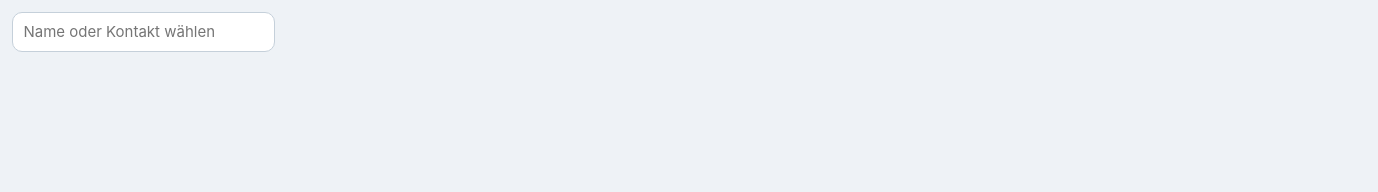
Test: Personenfeld mit Kontaktvorschlägen › übernimmt einen Vorschlag und bietet ihn nicht noch einmal an
Type "Hr. Gruber, ann" into the dropdown at point(144, 32), box x1=12 y1=12 x2=275 y2=52
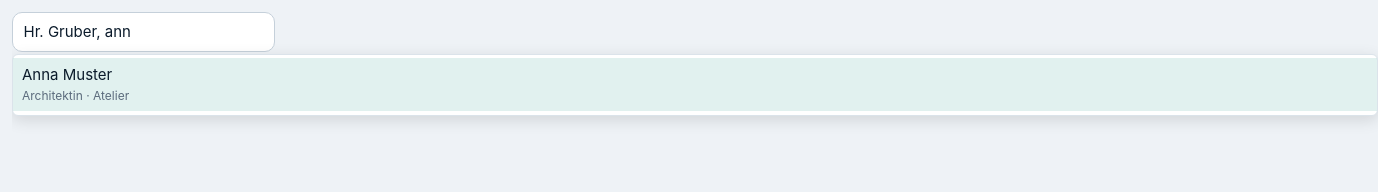
Press Enter in the dropdown, box x1=12 y1=12 x2=275 y2=52
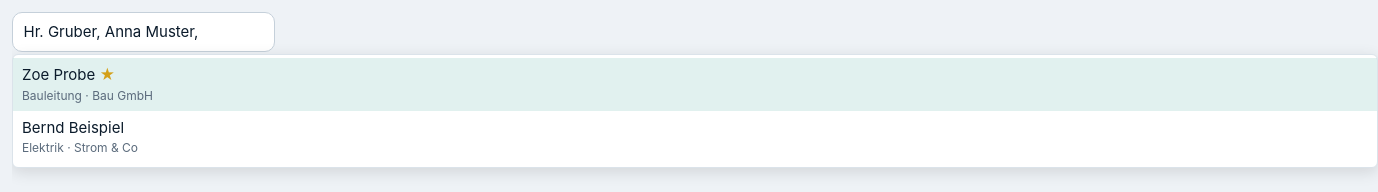
Expected: the dropdown holds "Hr. Gruber, Anna Muster, ", x1=12 y1=12 x2=275 y2=52
